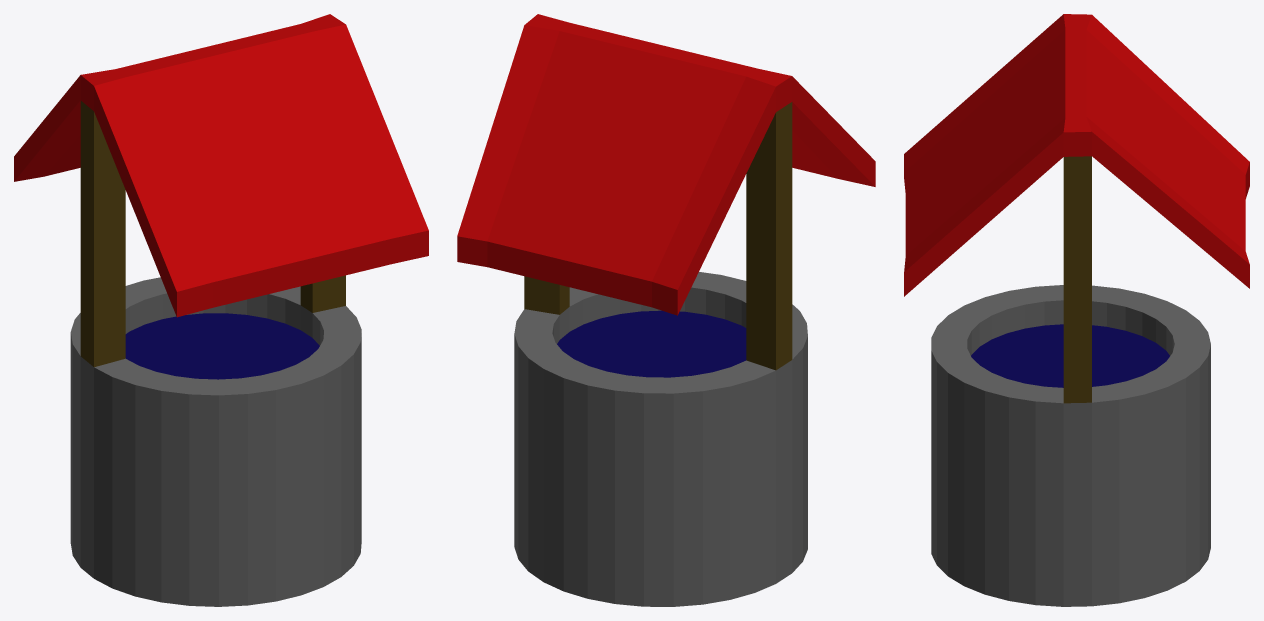
The model's file is Well.fbx.
3 views of the same model, side by side, from view 1: azimuth 30°, elevation 25°; view 2: azimuth 150°, elevation 25°; view 3: azimuth 270°, elevation 25° (orthographic). The views are drawn at different scales.
Parts seen in each view (by area): view 1: Circle; view 2: Circle; view 3: Circle.
Boxes of the visible parts, x1=… form: Circle: x1=14, y1=14, x2=428, y2=606; Circle: x1=457, y1=14, x2=875, y2=606; Circle: x1=904, y1=14, x2=1249, y2=606.
Bounding box in the file's own units: 200 × 373 × 247.
